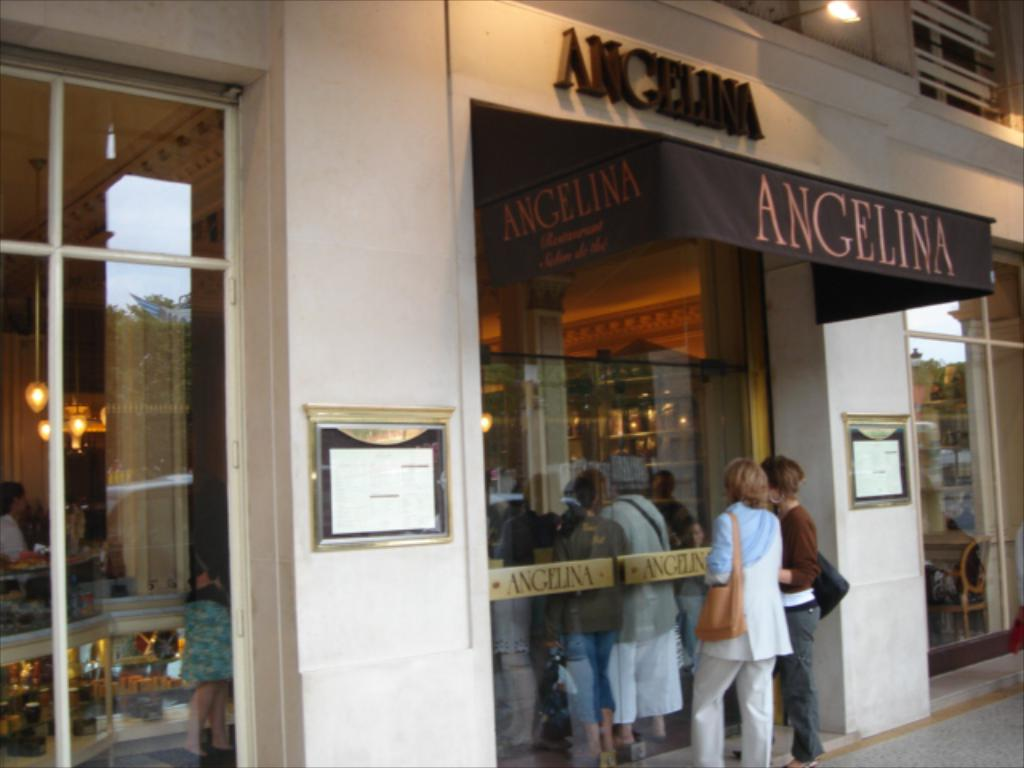Person: (689, 457, 793, 768), (759, 454, 821, 767)
